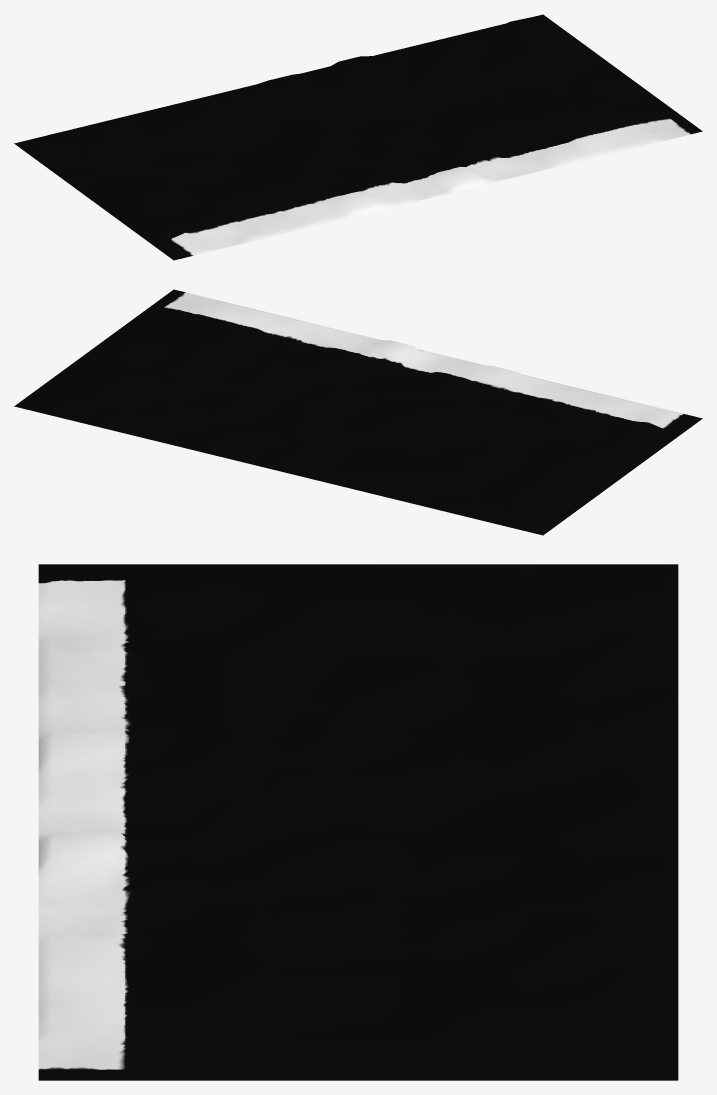
Rendered from Berm.fbx.
3 views of the same model, one above another, from view 1: azimuth 30°, elevation 25°; view 2: azimuth 150°, elevation 25°; view 3: azimuth 270°, elevation 25° (orthographic). The views are drawn at different scales.
Parts seen in each view (by area): view 1: Berm_Lod_0; view 2: Berm_Lod_0; view 3: Berm_Lod_0.
Part boxes in pixels (x1,y1,x2,y2): Berm_Lod_0: (14, 14, 702, 260); Berm_Lod_0: (14, 289, 702, 535); Berm_Lod_0: (38, 564, 678, 1080).
Size of what is drawn, in the model's own units: 0.9556 by 0.0115 by 0.5.
